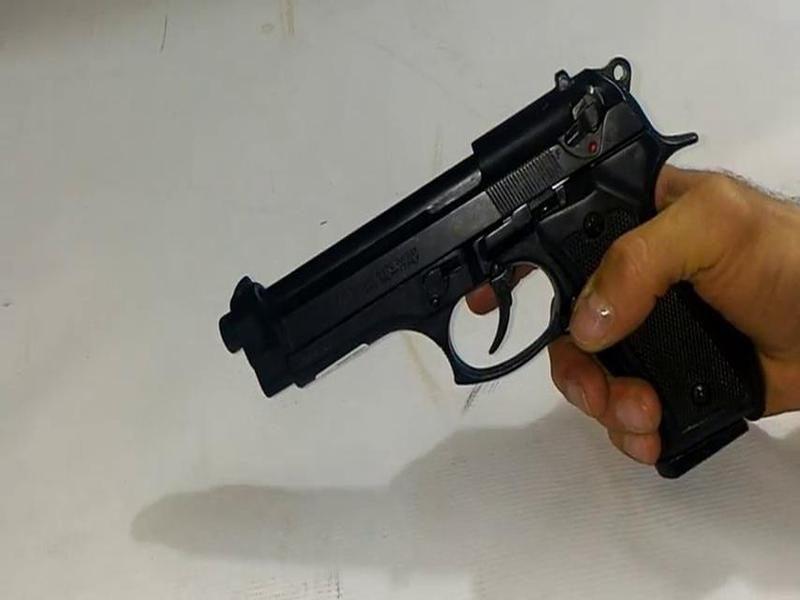Pistola: (193, 44, 761, 485)
